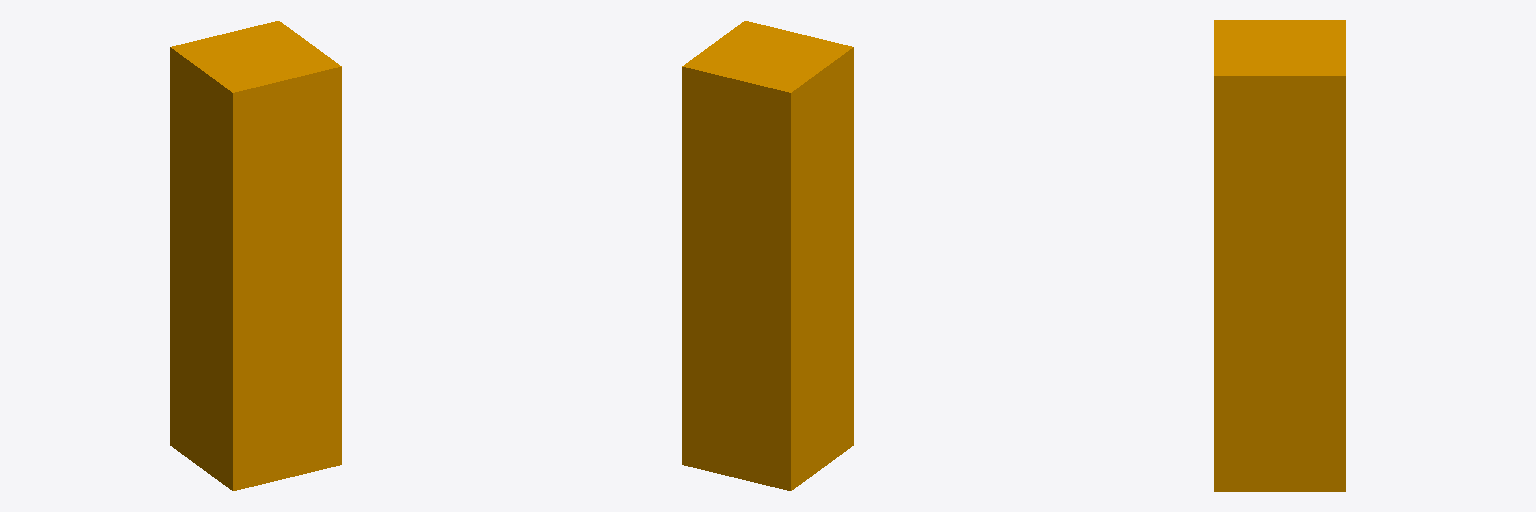
robot.urdf — simple_box:
 <robot name="simple_box">
  <link name="my_box">
    <inertial>
      <origin xyz="0 0 0" />
      <mass value="1.0" />
      <inertia  ixx="1.0" ixy="0.0"  ixz="0.0"  iyy="100.0"  iyz="0.0"  izz="1.0" />
    </inertial>
    <visual>
      <origin xyz="0 0 0"/>
      <geometry>
        <box size="0.1 0.1 0.35" />
      </geometry>
    </visual>
    <collision>
      <origin xyz="0 0 0"/>
      <geometry>
        <box size="0.1 0.1 0.25" />
      </geometry>
    </collision>
  </link>
  <gazebo reference="my_box">
    <material>Gazebo/Orange</material>
  </gazebo>
</robot>

--- What the picture shows (computed from the rendered views, not written in the file) ---
3 views of the same robot in one strip: view 1: azimuth 30°, elevation 25°; view 2: azimuth 150°, elevation 25°; view 3: azimuth 270°, elevation 25° (orthographic).
Model simple_box with 1 links and 0 joints (none), rooted at my_box, posed all joints at 0.
Visible links, largest first — view 1: my_box; view 2: my_box; view 3: my_box.
Boxes of the visible links, x1=… form: my_box: x1=170, y1=21, x2=341, y2=490; my_box: x1=682, y1=21, x2=853, y2=490; my_box: x1=1214, y1=20, x2=1345, y2=491.
Size in the robot's own frame: 0.1 by 0.1 by 0.35 metres.
Geometry: primitives only (box / cylinder / sphere), no mesh files.
